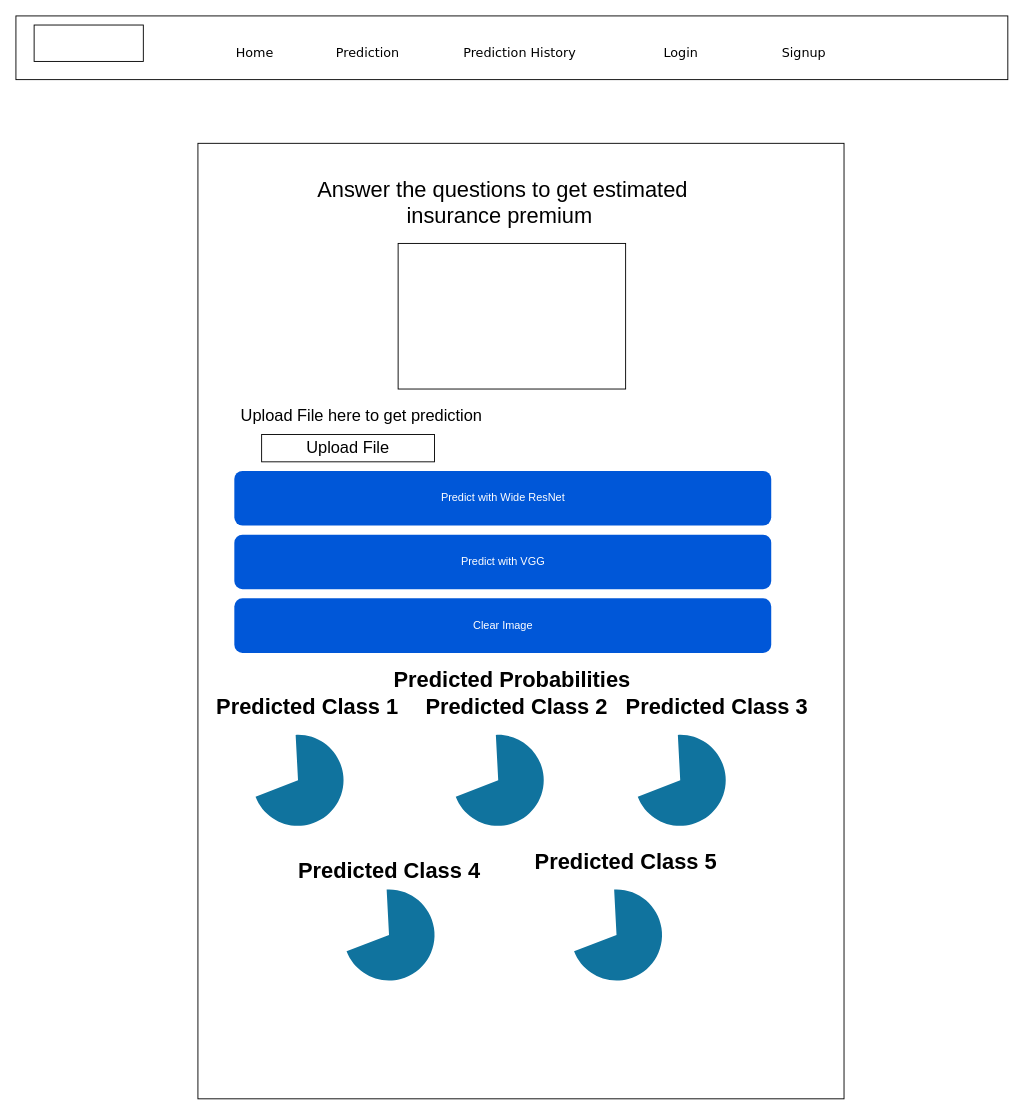
The diagram is 1024 pixels wide and 1115 high, and some of its shapes have lost their labels. The centre of each missing label's shape, as x and y in pixels:
HTML Canvas (Rescales to image size: (x=511, y=316)
Logo: (x=88, y=42)
